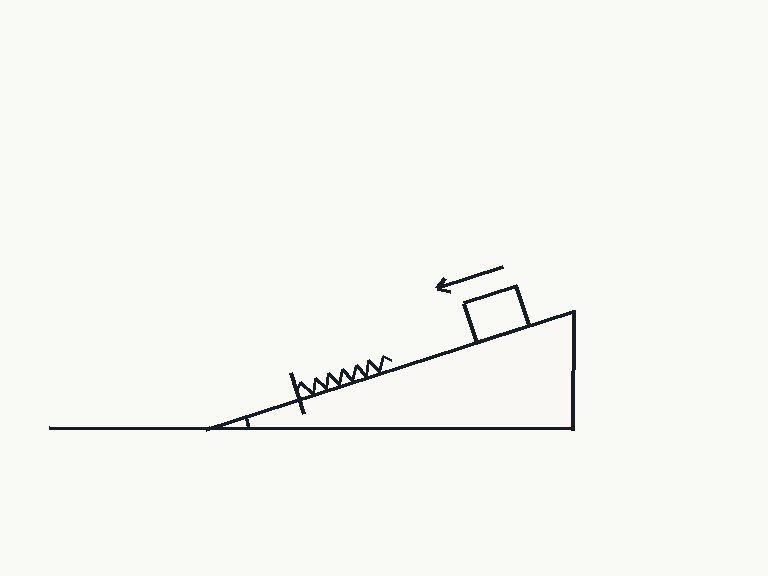block: (461, 284, 531, 344)
ramp: (206, 309, 574, 431)
spring: (294, 354, 393, 395)
